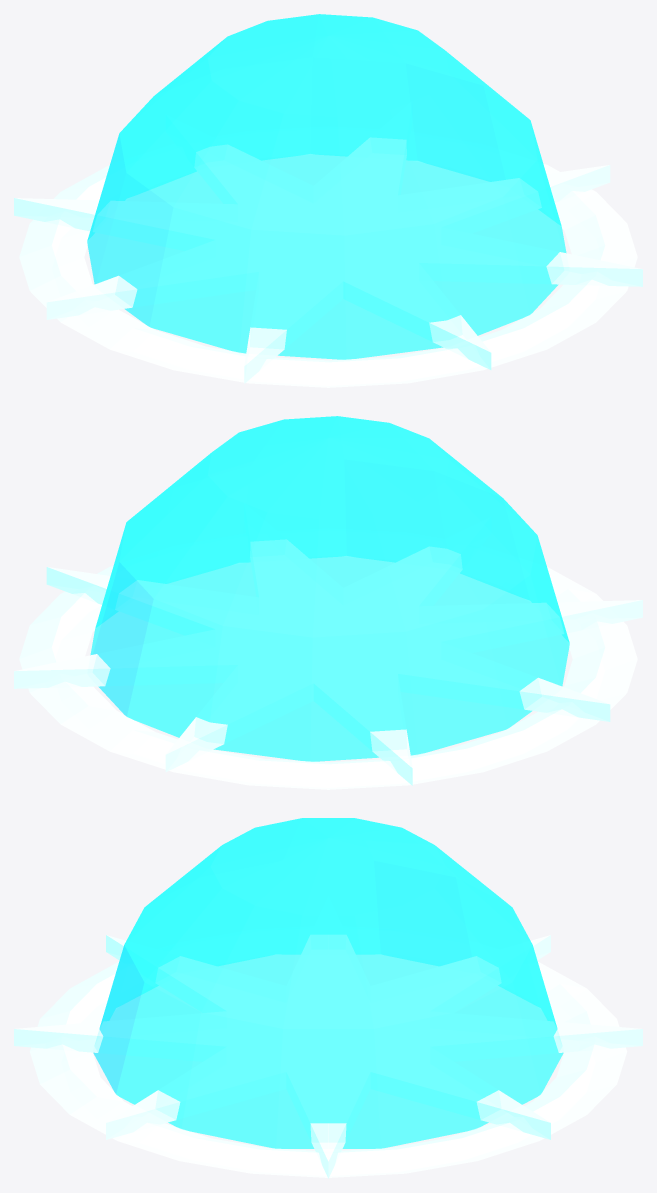
The model's file is fx_blast_f.glb.
The picture shows the model from 3 angles, top to bottom: view 1: azimuth 30°, elevation 25°; view 2: azimuth 150°, elevation 25°; view 3: azimuth 270°, elevation 25°; orthographic projection. The views are drawn at different scales.
Visible parts, largest first — view 1: fx_blast_f; view 2: fx_blast_f; view 3: fx_blast_f.
Part boxes in pixels (bbox=[...]): fx_blast_f: bbox=[14, 14, 642, 387]; fx_blast_f: bbox=[14, 416, 642, 789]; fx_blast_f: bbox=[14, 818, 642, 1178].
Bounding box in the file's own units: 2 × 0.79 × 2.
